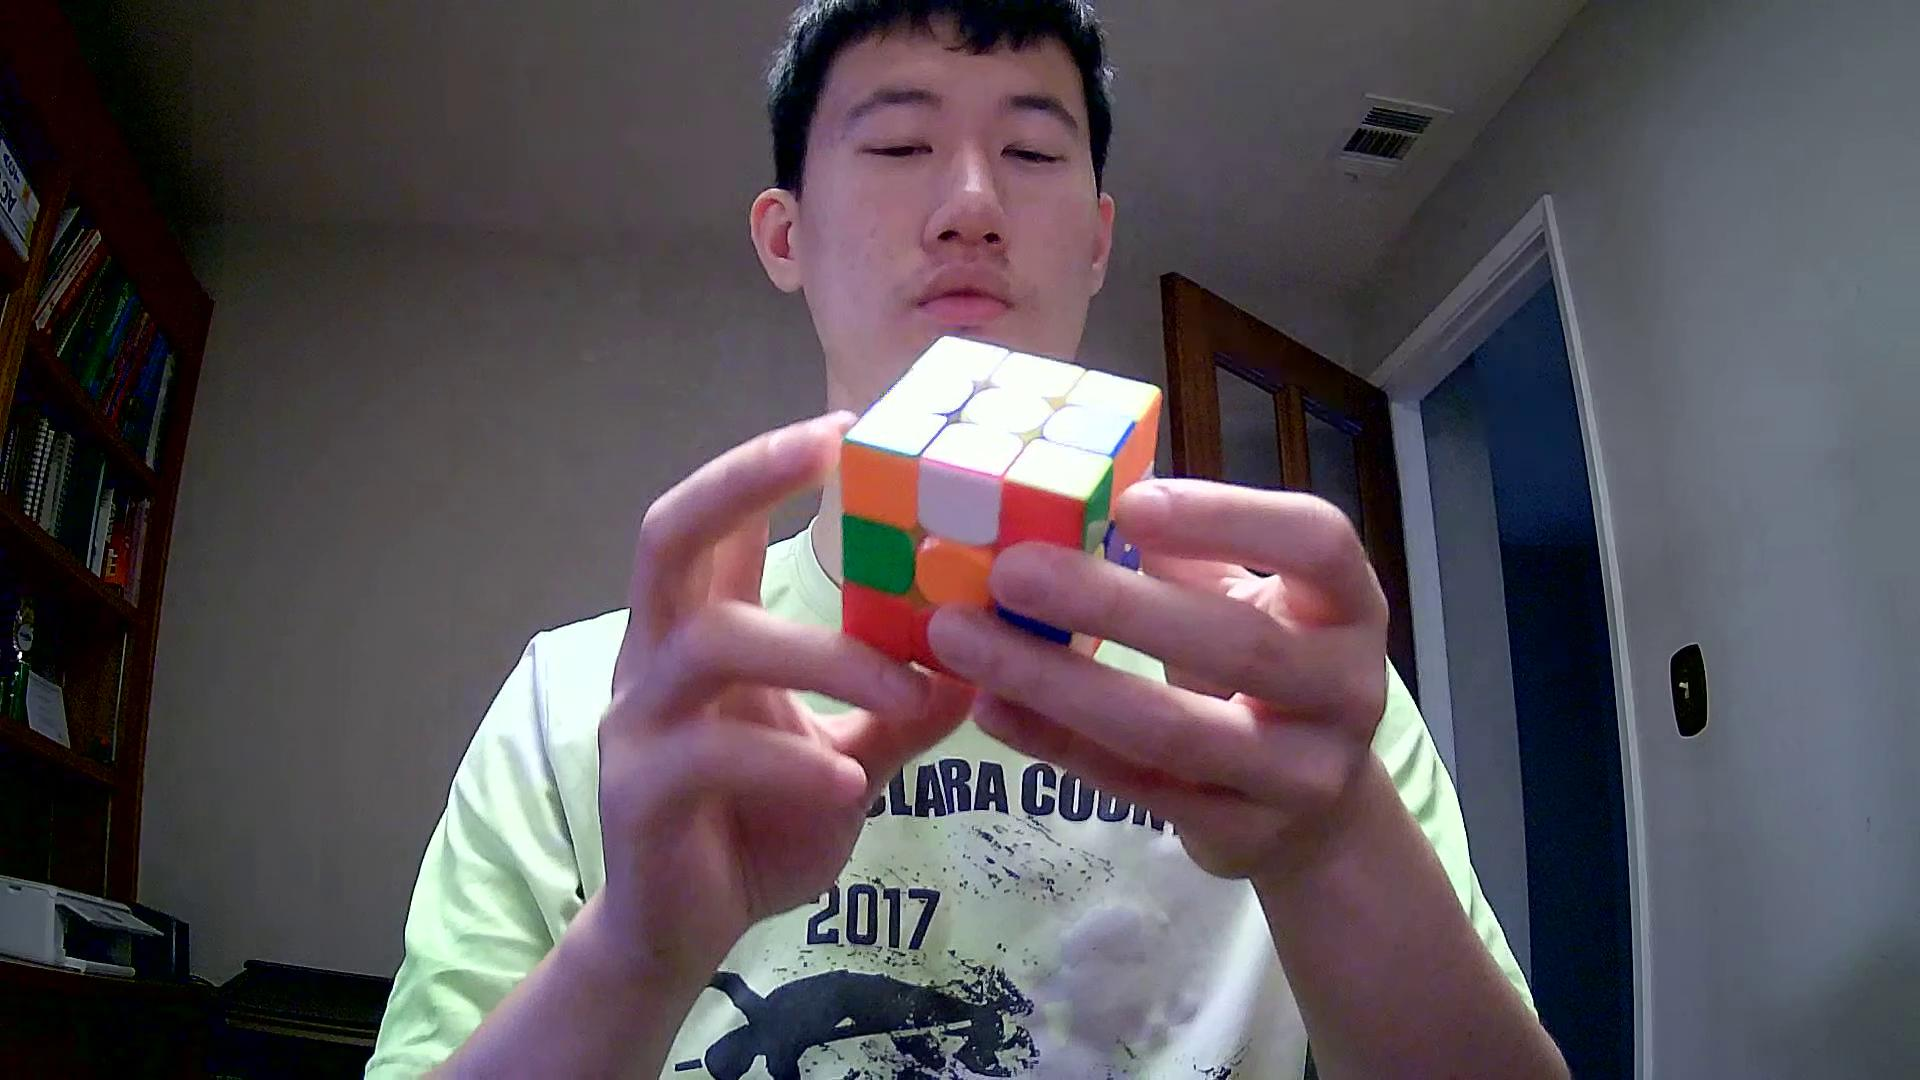Rubiks-Cube: (831, 322, 1175, 702)
